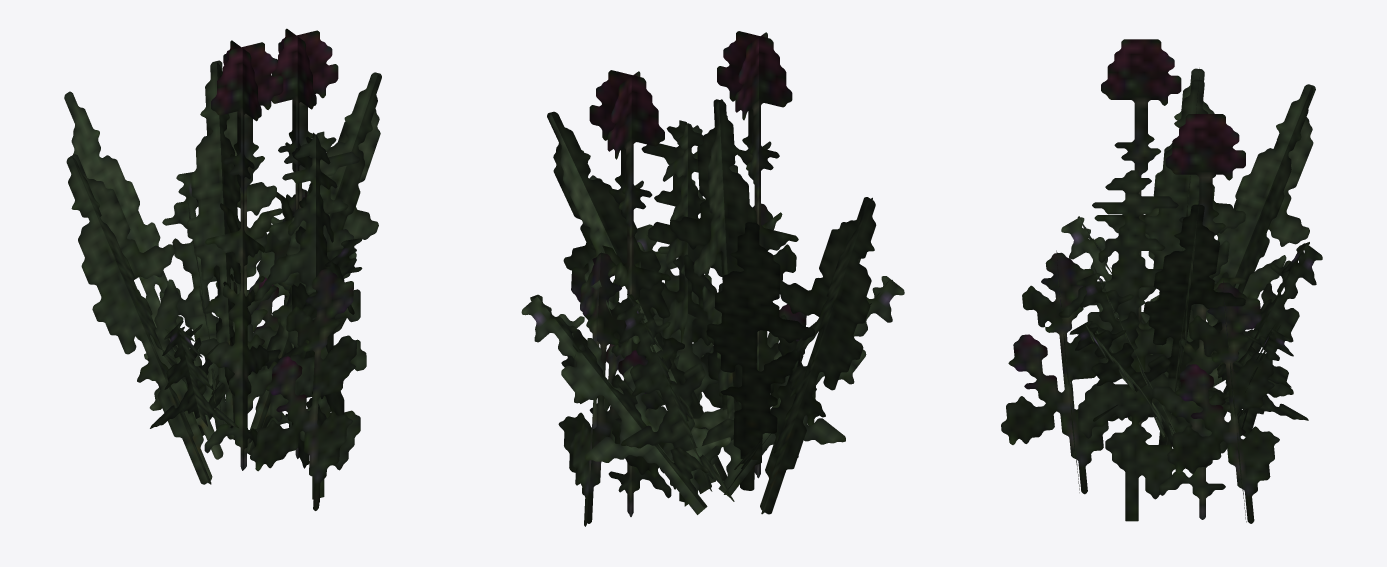
The model's file is SM_EC_Plant_Bush_06.fbx.
The picture shows the model from 3 angles, left to right: view 1: azimuth 30°, elevation 25°; view 2: azimuth 150°, elevation 25°; view 3: azimuth 270°, elevation 25°; orthographic projection. The views are drawn at different scales.
Parts seen in each view (by area): view 1: SM_EC_Plant_Bush_06; view 2: SM_EC_Plant_Bush_06; view 3: SM_EC_Plant_Bush_06.
Part boxes in pixels (x1=…): SM_EC_Plant_Bush_06: x1=64, y1=28, x2=381, y2=510; SM_EC_Plant_Bush_06: x1=521, y1=31, x2=904, y2=526; SM_EC_Plant_Bush_06: x1=1001, y1=39, x2=1322, y2=523.
Size of the model in its own units: 1.04 by 0.9201 by 1.17.
